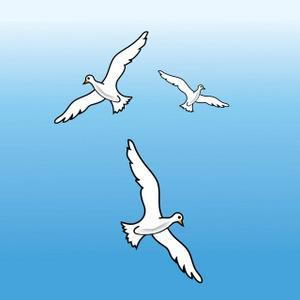bird: (116, 137, 205, 284), (52, 29, 151, 127), (156, 67, 230, 116)
